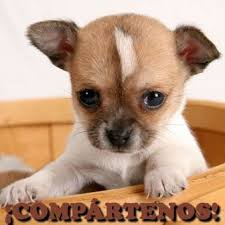chihuahua: (11, 12, 223, 204)
